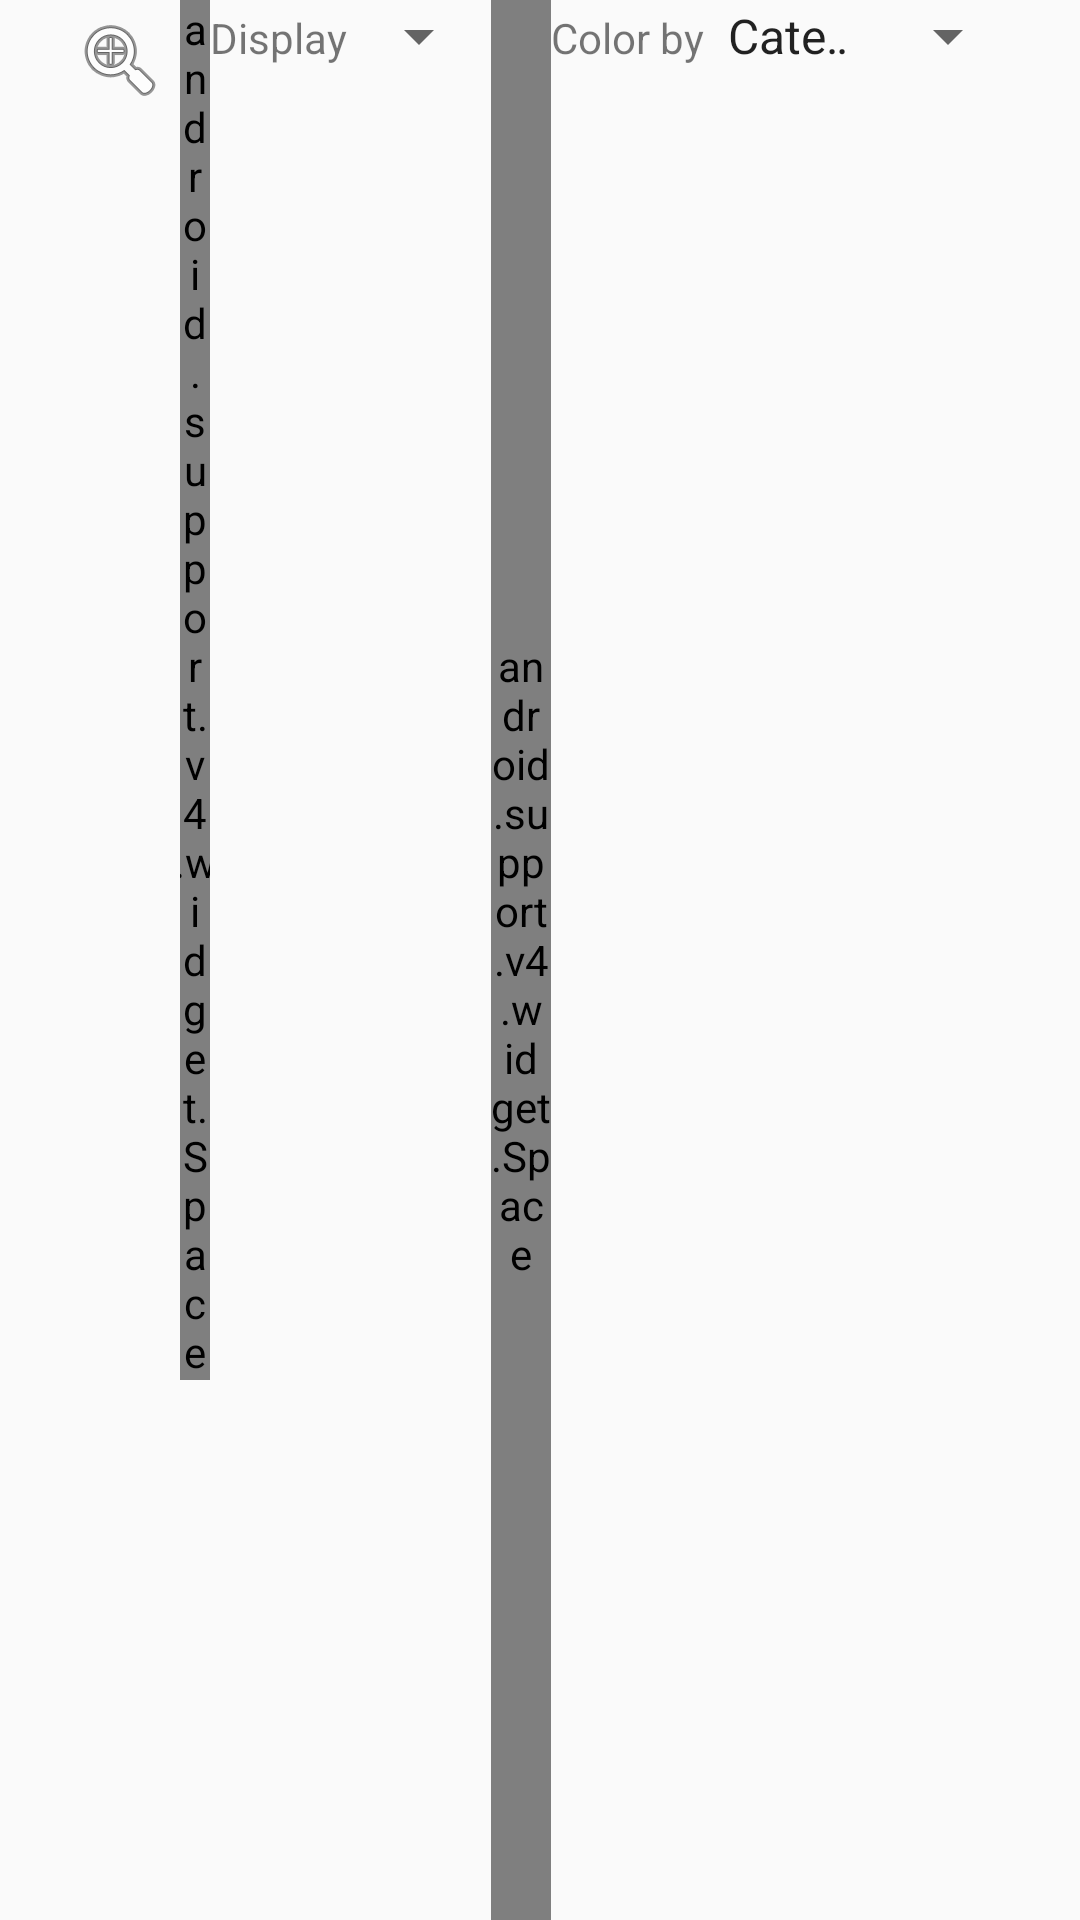

Icon bounding boxes for this 1080px×1920px phone screenshot, format (x1, y1, x2, y2):
Zoom: (84, 25, 156, 96)
